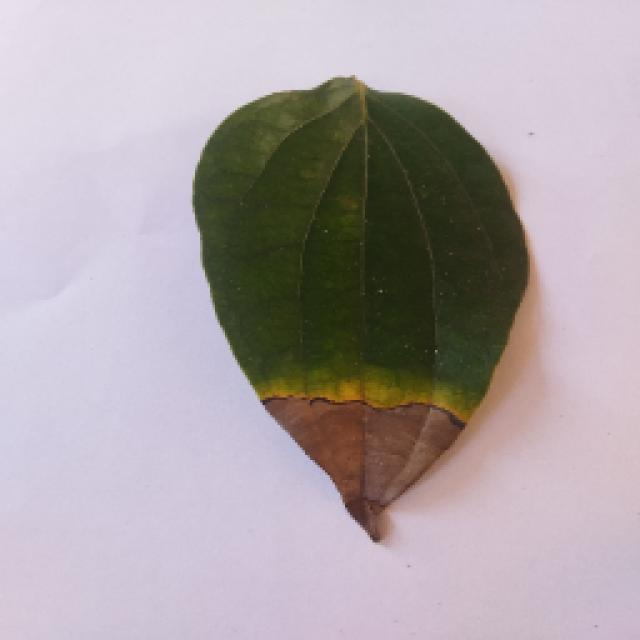footrot: (192, 75, 530, 543)
